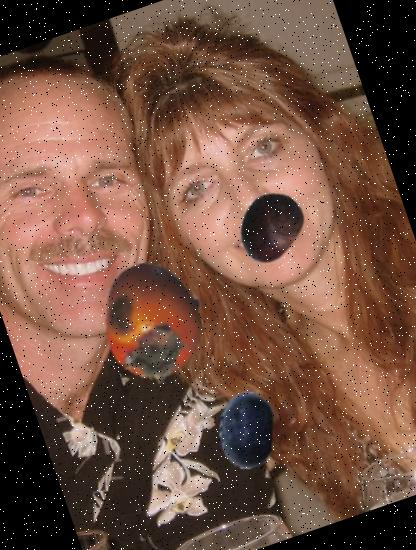Blueberry: (197, 381, 296, 480)
Chestnut: (224, 180, 316, 272)
Kaki: (76, 244, 232, 400)
